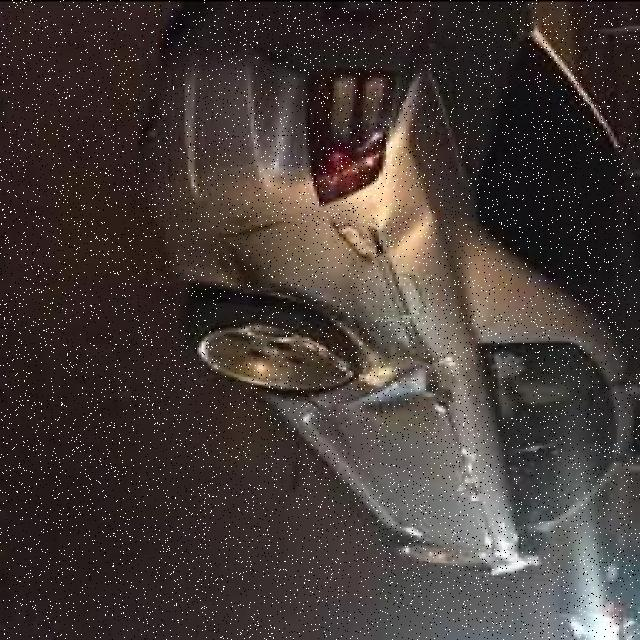damage: (209, 206, 459, 412), (322, 194, 433, 263)
